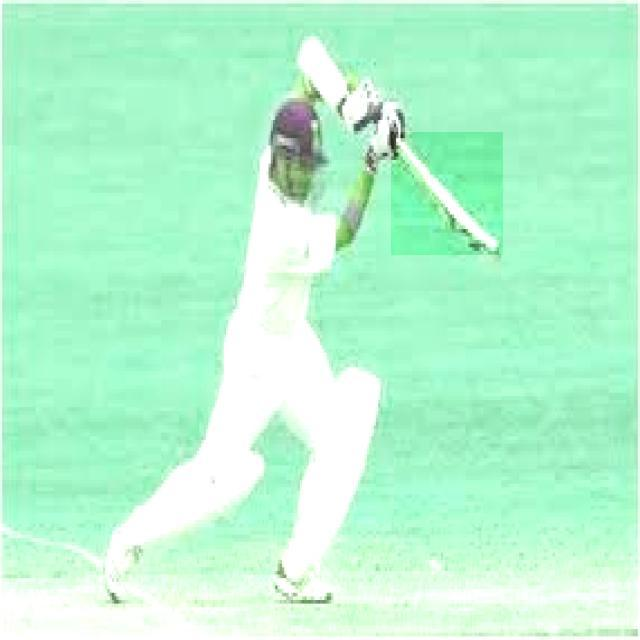bat: (390, 135, 503, 255)
toe: (485, 233, 501, 261)
